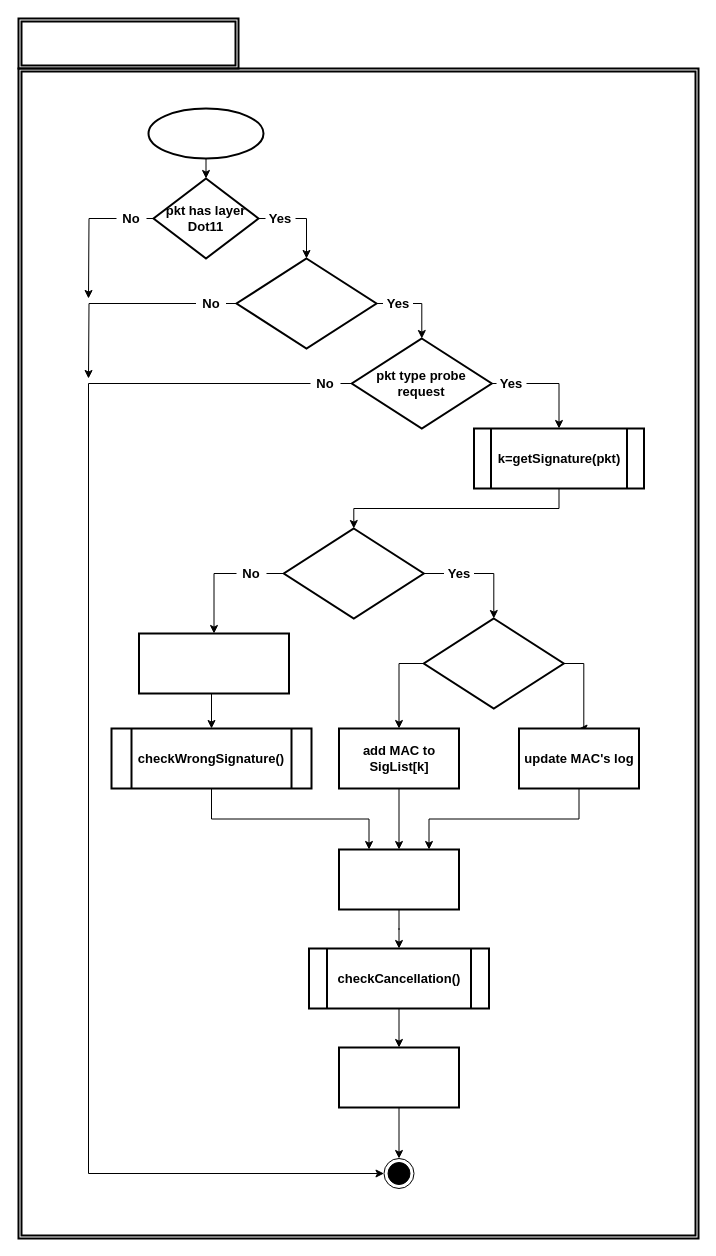
This 716x1256 diagram has some shape labels left out. Here are the shapes that lost their labels. From the top down, the centre of each, then its label:
At point (128, 43): "PacketHandler(pkt)".
At point (205, 133): "Start".
At point (306, 303): "pkt type beacon frame".
At point (353, 573): "signature in SigList".
At point (214, 663): "-add k to SigList[ ] -add MAC to SigList[k]".
At point (493, 663): "MAC in SigList[k]".
At point (399, 879): "add plus variation to sql_struct[ ]".
At point (399, 1077): "add minus variation to sql_struct[ ]".
